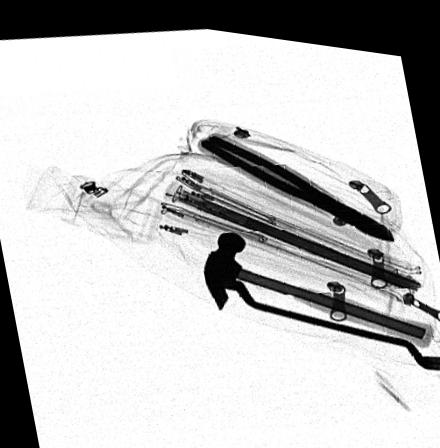Hammer: (200, 225, 435, 337)
Pliers: (197, 123, 398, 226)
Wrench: (201, 262, 440, 356)
